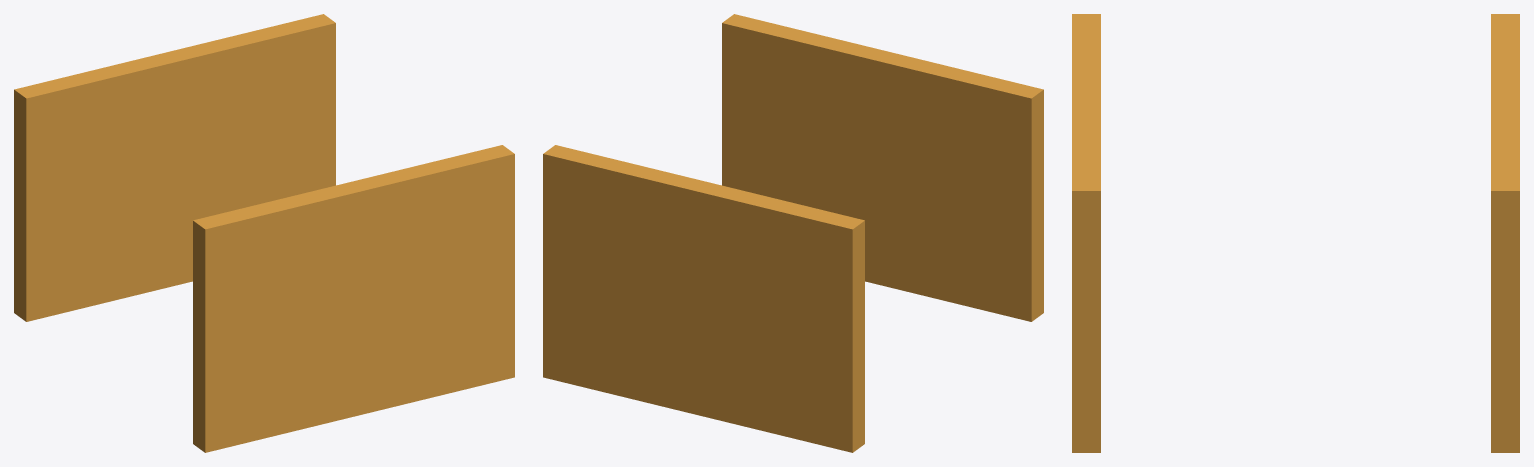
The model's file is bridge-pillars-large-straight.glb.
The picture shows the model from 3 angles, left to right: view 1: azimuth 30°, elevation 25°; view 2: azimuth 150°, elevation 25°; view 3: azimuth 270°, elevation 25°; orthographic projection. The views are drawn at different scales.
Visible parts, largest first — view 1: bridge-pillars-large-straight; view 2: bridge-pillars-large-straight; view 3: bridge-pillars-large-straight.
Boxes of the visible parts, x1,y1,x2,y2 form: bridge-pillars-large-straight: (14,14,514,452); bridge-pillars-large-straight: (543,14,1043,452); bridge-pillars-large-straight: (1072,14,1519,452).
Bounding box in the file's own units: 14.5 × 10 × 15.5.
